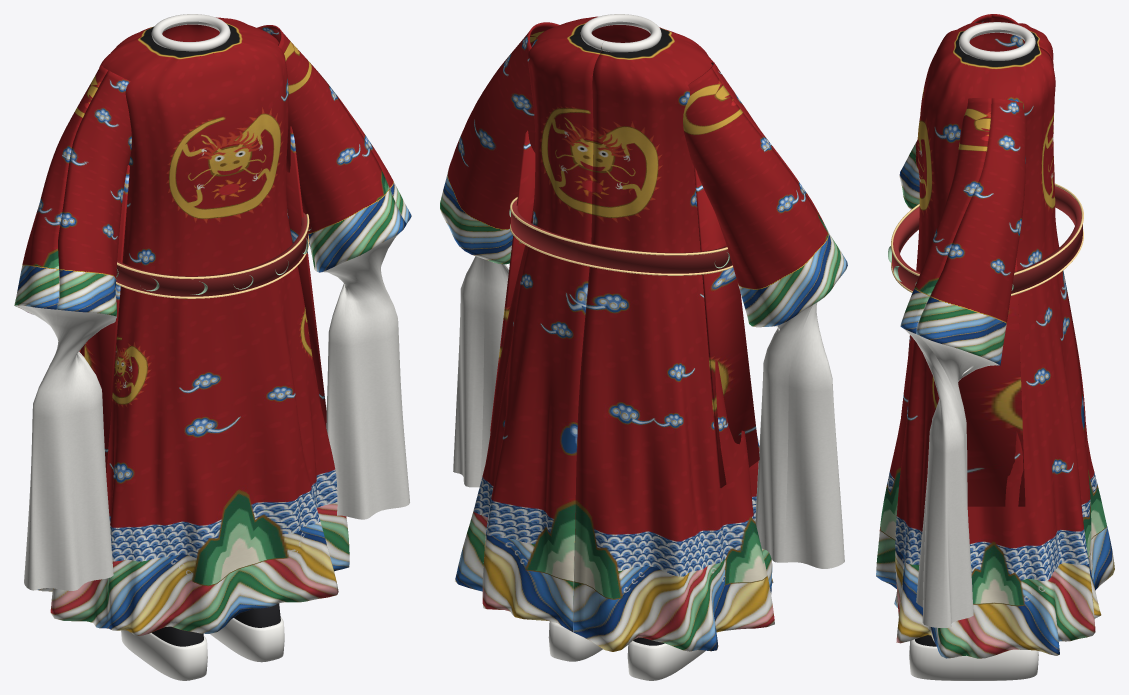
Rendered from costume_caocao.glb.
3 views of the same model, side by side, from view 1: azimuth 30°, elevation 25°; view 2: azimuth 150°, elevation 25°; view 3: azimuth 270°, elevation 25° (orthographic). The views are drawn at different scales.
Visible parts, largest first — view 1: Robe, Shuixiu-1, Sleeve-1, Shuixiu1, Sleeve1, Boot_Sole, Yudai, Bai-1, Bai1, Collar, Boot, Yudai_Gold; view 2: Robe, Sleeve-1, Shuixiu-1, Sleeve1, Shuixiu1, Bai-1, Yudai, Boot_Sole, Bai1, Collar, Yudai_Gold; view 3: Robe, Sleeve1, Shuixiu1, Bai1, Boot_Sole, Yudai, Collar, Sleeve-1, Yudai_Gold.
Part boxes in pixels (x1,y1,x2,y2): Robe: (38, 17, 349, 635); Shuixiu-1: (14, 305, 116, 590); Sleeve-1: (14, 65, 131, 316); Shuixiu1: (322, 233, 409, 519); Sleeve1: (257, 25, 411, 272); Boot_Sole: (121, 617, 284, 680); Yudai: (116, 212, 308, 296); Bai-1: (79, 165, 129, 472); Bai1: (286, 126, 326, 427); Collar: (151, 14, 230, 51); Boot: (151, 603, 280, 646); Yudai_Gold: (116, 214, 309, 298); Robe: (455, 16, 774, 651); Sleeve-1: (683, 62, 847, 327); Shuixiu-1: (755, 302, 844, 568); Sleeve1: (440, 22, 559, 264); Shuixiu1: (453, 256, 509, 487); Bai-1: (694, 166, 759, 487); Yudai: (511, 200, 732, 273); Boot_Sole: (548, 621, 705, 680); Bai1: (490, 130, 535, 431); Collar: (580, 14, 661, 52); Yudai_Gold: (510, 197, 732, 275); Robe: (876, 22, 1114, 658); Sleeve1: (900, 98, 1026, 365); Shuixiu1: (903, 328, 998, 627); Bai1: (958, 256, 1025, 506); Boot_Sole: (909, 639, 1038, 680); Yudai: (892, 186, 1082, 293); Collar: (959, 22, 1035, 60); Sleeve-1: (899, 14, 1024, 209); Yudai_Gold: (891, 183, 1083, 295).
Size of the model in its own units: 0.9895 by 1.52 by 0.5342.
8 materials, 2 textured.
